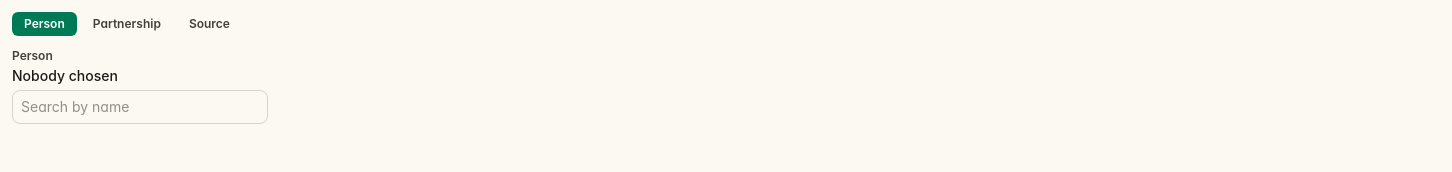
FileOwnerPicker › forgets a chosen source when the choice goes back to people
Click the button "Source": (209, 24) [177,12,242,36]
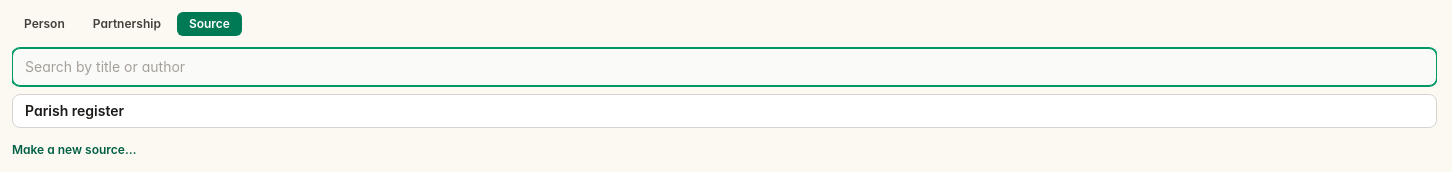
Check: the option "Parish register" is shown
Click the option "Parish register": (74, 110) [25,102,124,119]
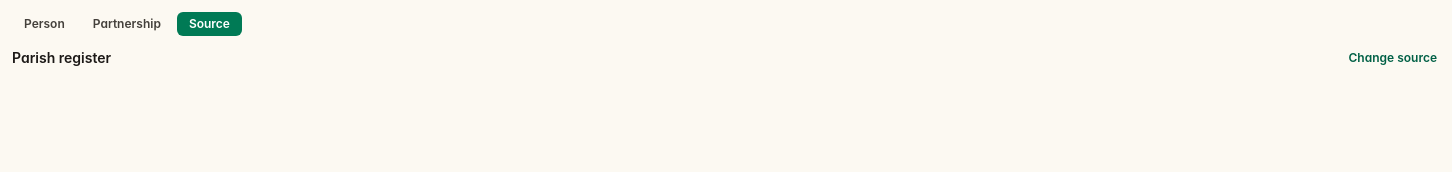
Click the button "Person": (44, 24) [12,12,77,36]
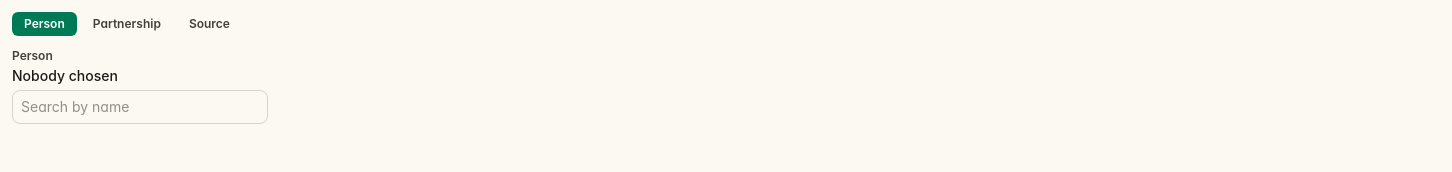
Check: the text with test id "chosen-source" is gone
